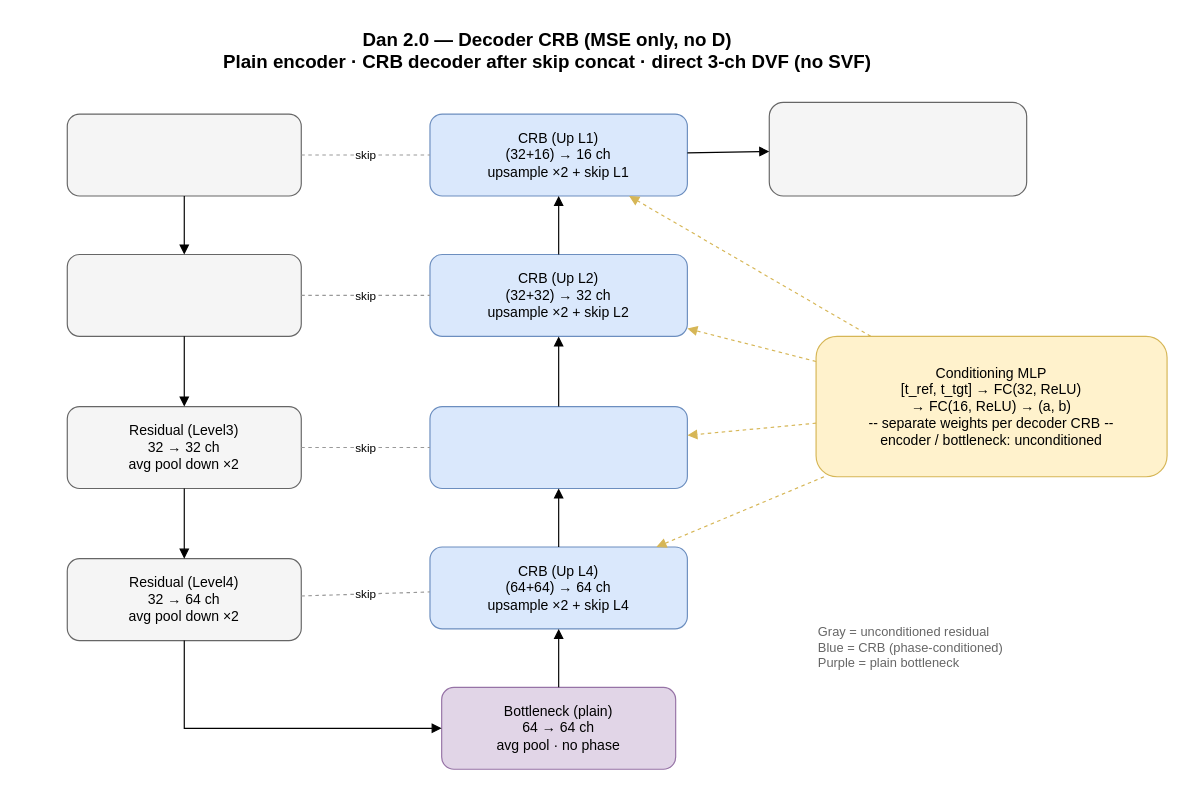
Image size: 1188x790. Some labels were removed from this diagram. Each missing label, with the box of its shape:
CRB (Up L3) (64+32) → 32 ch upsample ×2 + skip L3: (429, 405, 687, 488)
Output conv (linear) 16 → 3 ch = DVF directly (no integration / SVF): (768, 101, 1027, 196)
Residual (Level1) 1 → 16 ch ReLU, no norm · no phase: (66, 113, 301, 196)
Residual (Level2) 16 → 32 ch avg pool down ×2: (66, 253, 301, 336)
